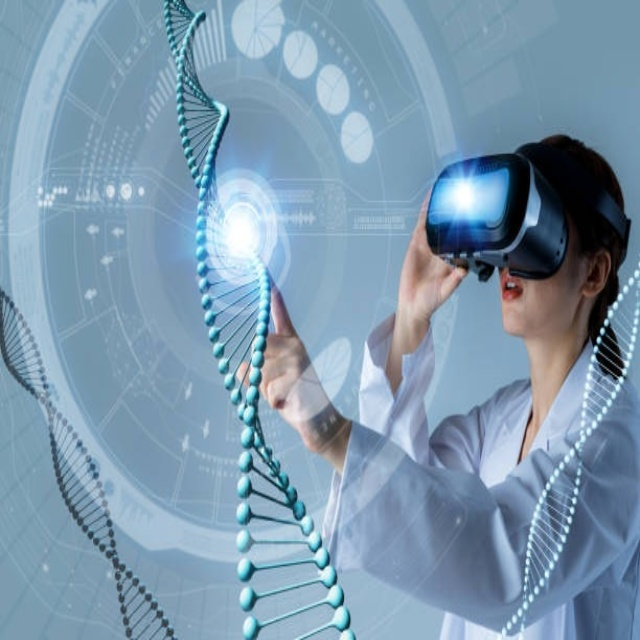Sin_guantes: (238, 274, 338, 448), (394, 180, 472, 343)
Sin_mascara: (498, 270, 538, 328)
